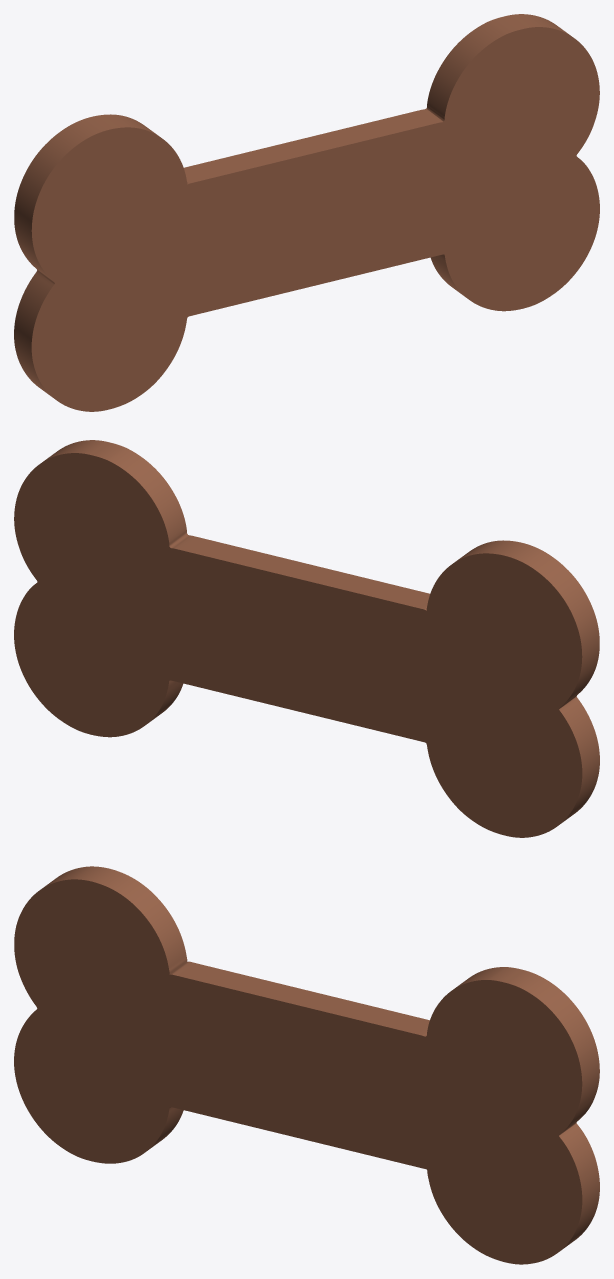
File: bone.fbx
3 views of the same model, one above another, from view 1: azimuth 30°, elevation 25°; view 2: azimuth 150°, elevation 25°; view 3: azimuth 330°, elevation 25° (orthographic).
Parts seen in each view (by area): view 1: Curve; view 2: Curve; view 3: Curve.
Boxes of the visible parts, bbox=[...] form: Curve: bbox=[14, 14, 599, 411]; Curve: bbox=[14, 440, 599, 837]; Curve: bbox=[14, 866, 599, 1264].
Bounding box in the file's own units: 768 × 361 × 41.31.
